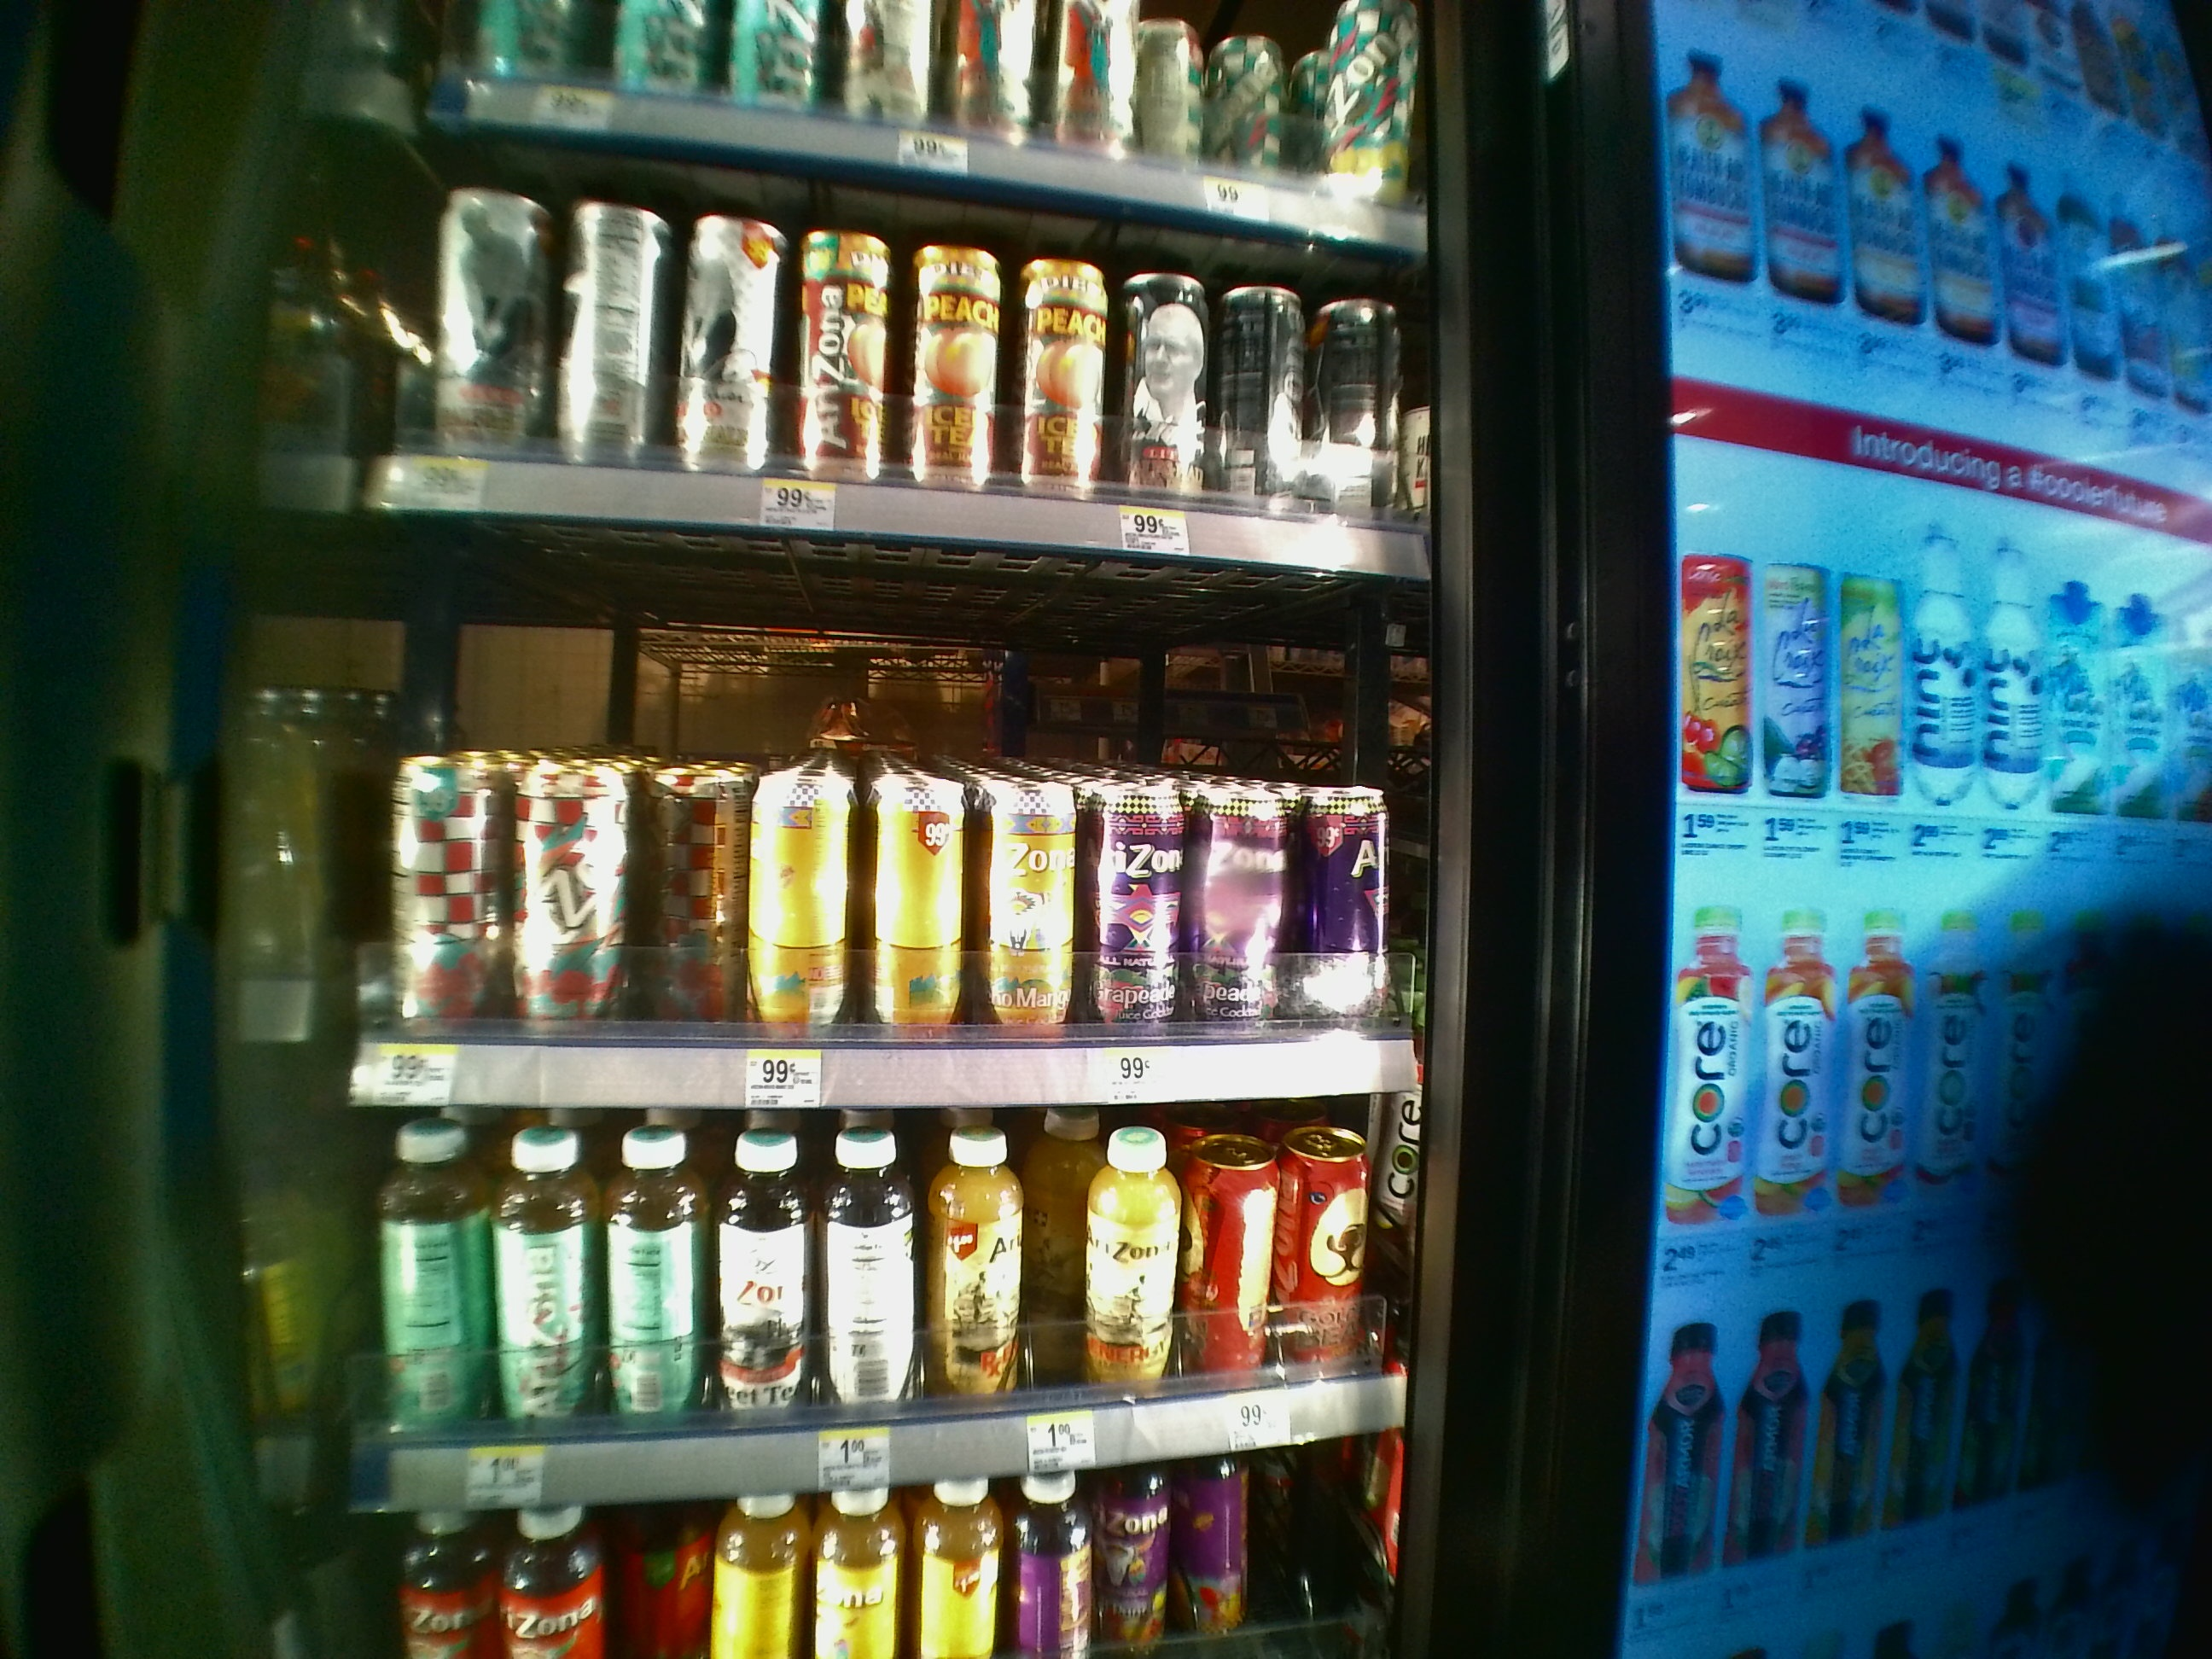shelf: (348, 516, 1411, 1108), (350, 1119, 1407, 1516)
